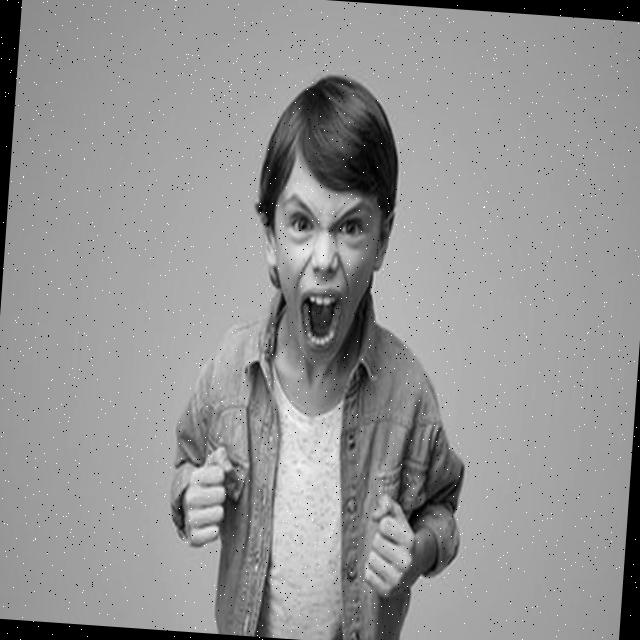Angry: (264, 154, 386, 368)
